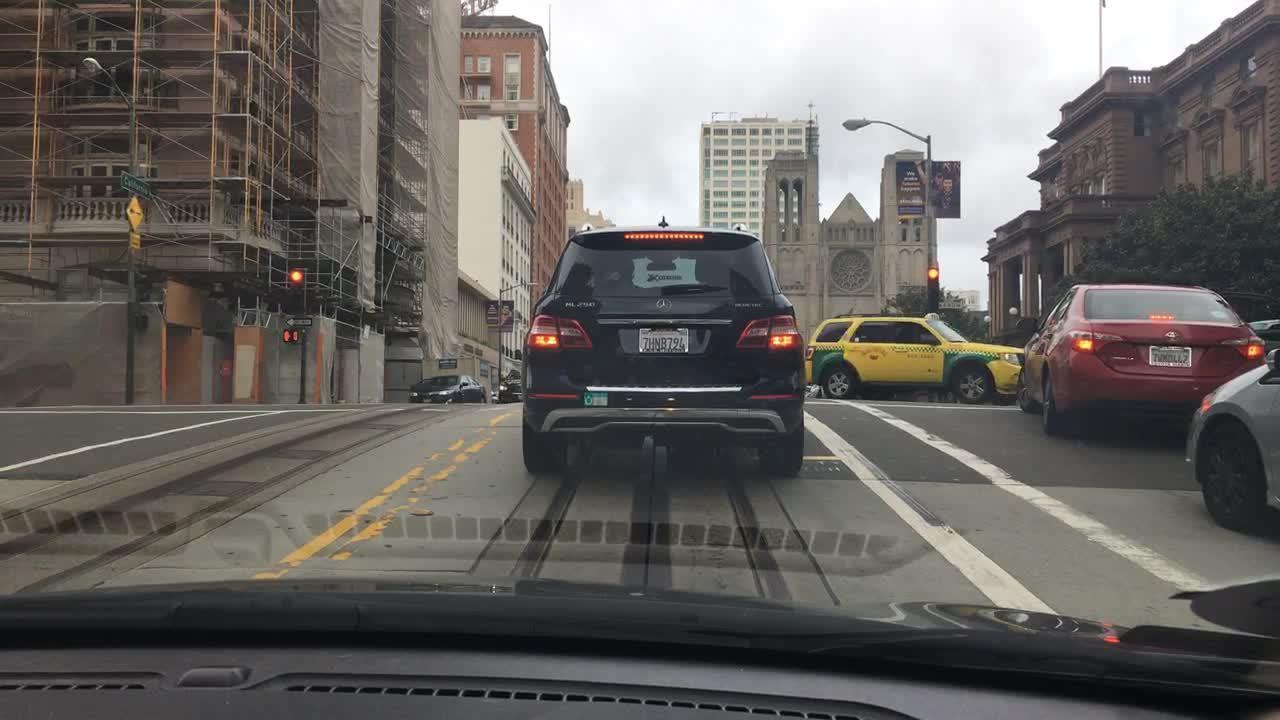Mercedes: (651, 295, 675, 313)
Toyota: (1159, 326, 1186, 348)
